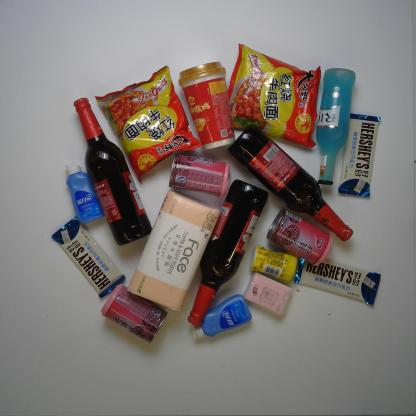Alcohol: (226, 124, 354, 242), (71, 94, 153, 245), (186, 178, 268, 325), (315, 68, 355, 186)
Canned Food: (97, 284, 168, 343), (266, 209, 334, 266), (167, 150, 231, 200)
Chocolate: (50, 216, 126, 297), (293, 251, 380, 306), (339, 112, 381, 198)
Gum: (253, 245, 300, 280)
Instant Drink: (176, 60, 235, 149)
Instant Noodles: (95, 63, 201, 174), (224, 43, 321, 150)
Personal Hygiene: (192, 293, 254, 340), (63, 160, 105, 224)
Tissue: (129, 191, 221, 315), (241, 271, 293, 317)
